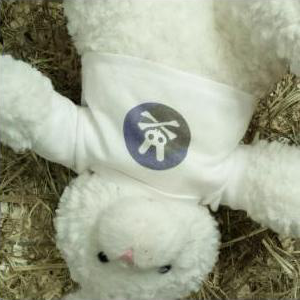bunny: (121, 100, 194, 172)
